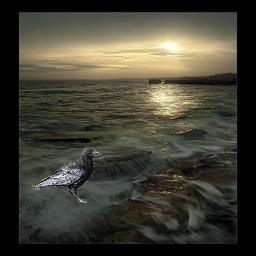Crow: (31, 147, 102, 203)
